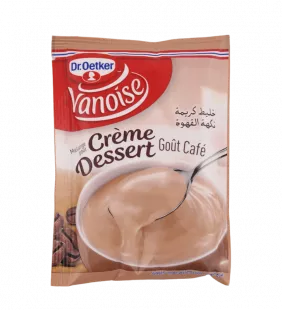Promotion: (44, 28, 237, 292)
